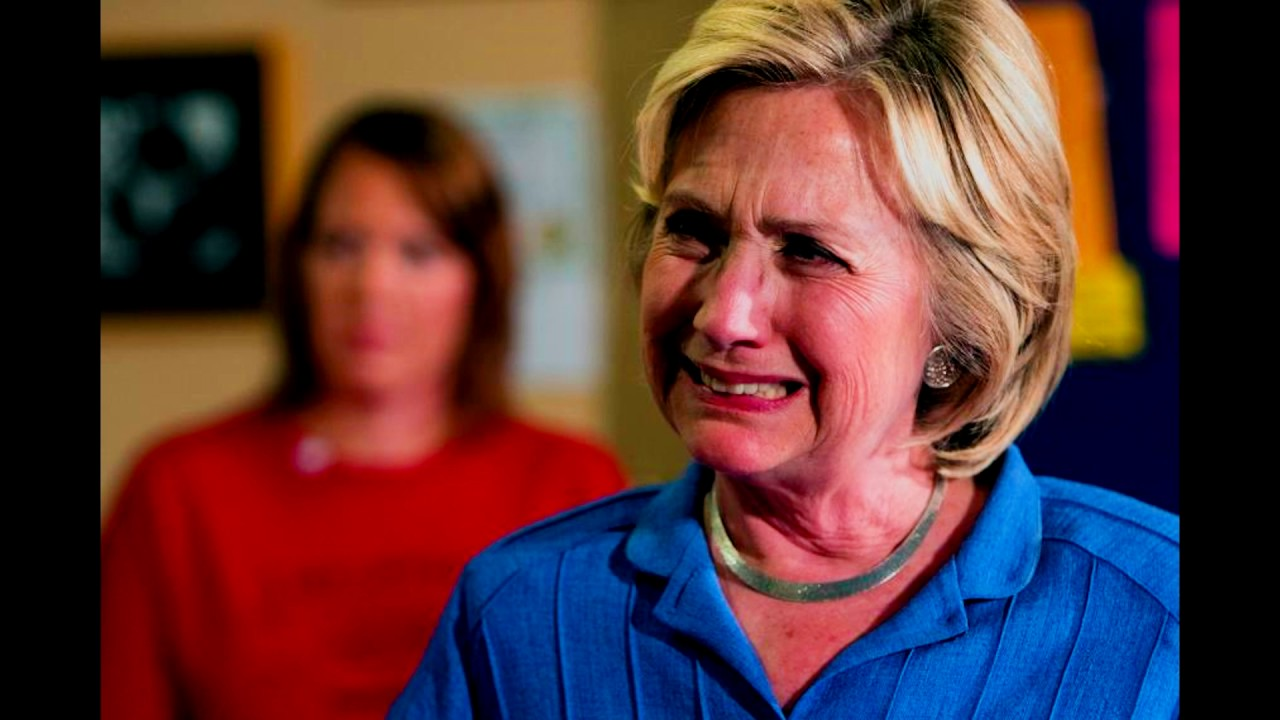sad: (633, 103, 886, 489)
